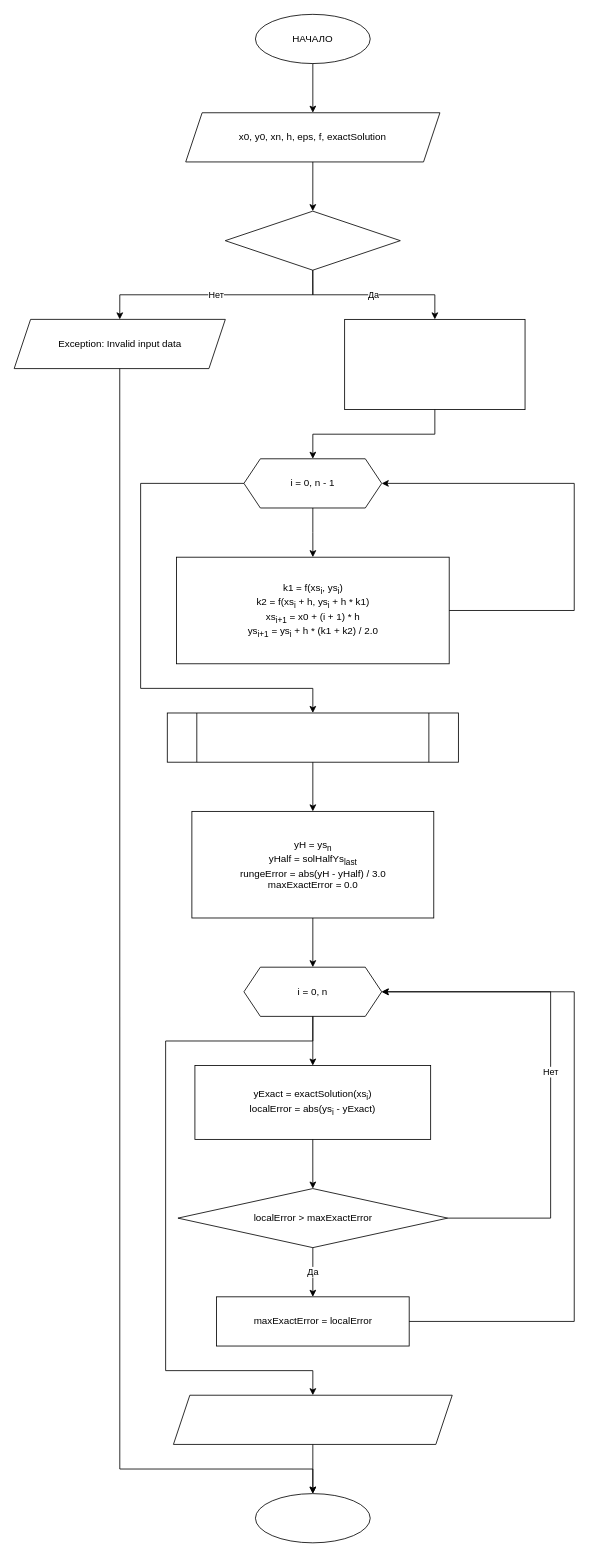
Some shapes in this 595 by 1557 pixel diagram are drawn without their labels. Here are the shapes that lost their labels. From the top down, the box of each, then its label:
(224, 210, 400, 270): xn > x0 И h > 0
(344, 319, 525, 410): n = floor((xn - x0) / h) xs 0 = x0 ys 0 = y0
(166, 712, 458, 762): solHalf = solve(f, x0, y0, xn, h / 2, eps)
(173, 1394, 452, 1444): xs, ys, rungeError, maxExactError, table
(255, 1493, 370, 1543): КОНЕЦ
